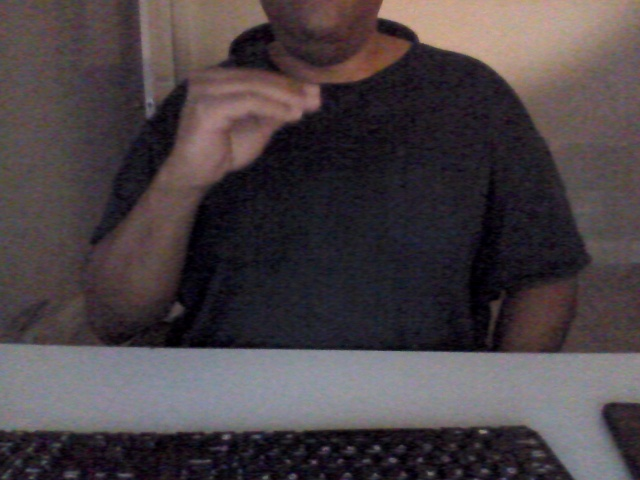eat: (152, 63, 339, 193)
